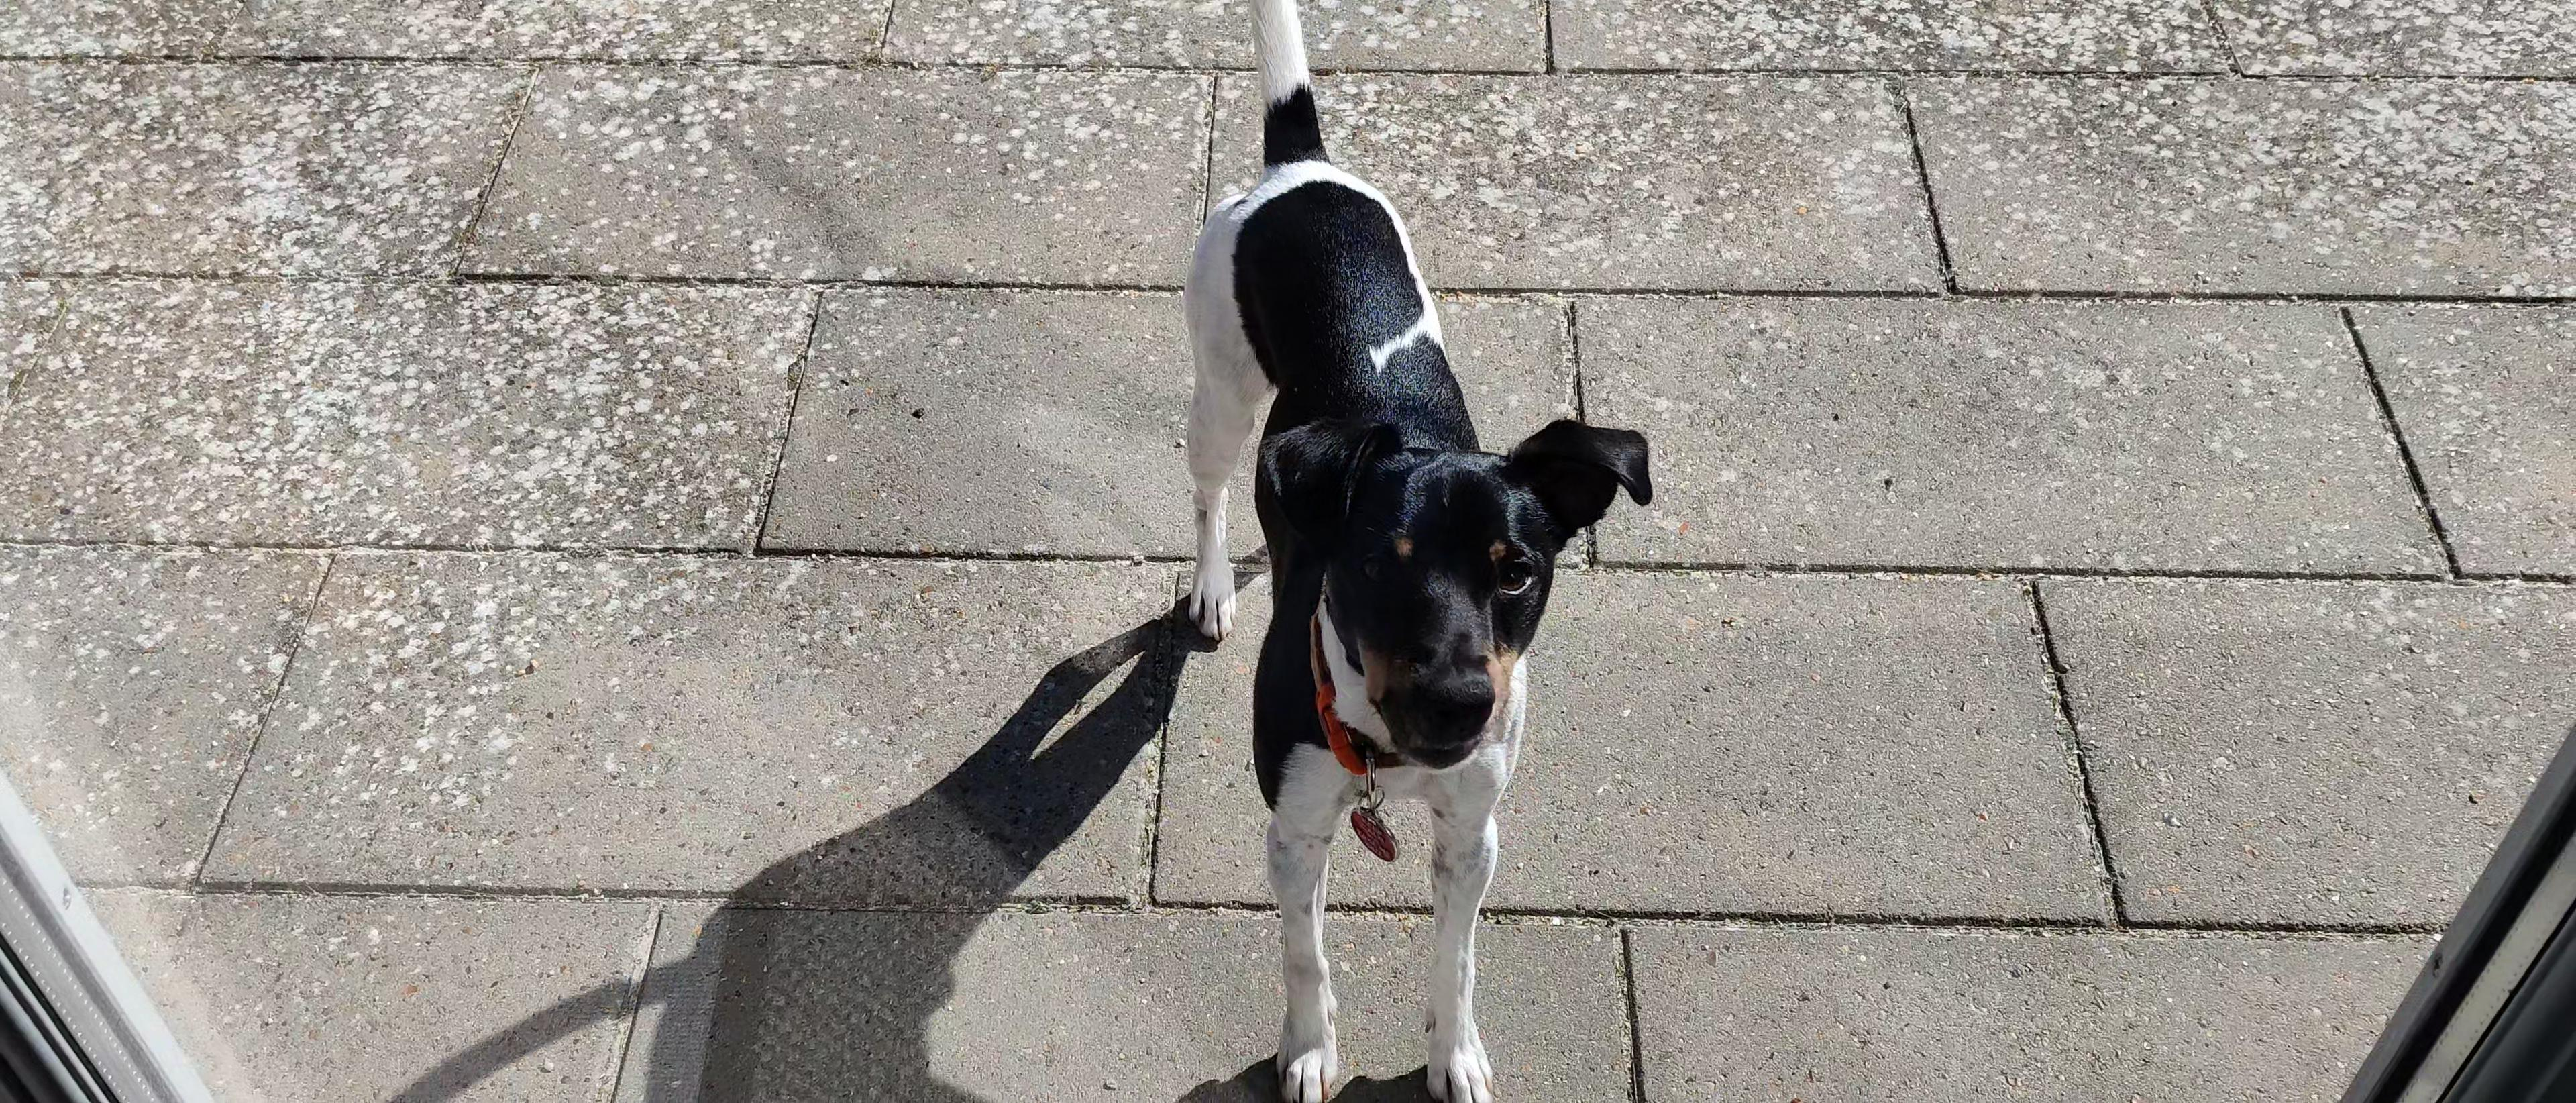Dog: (1170, 0, 1664, 1103)
